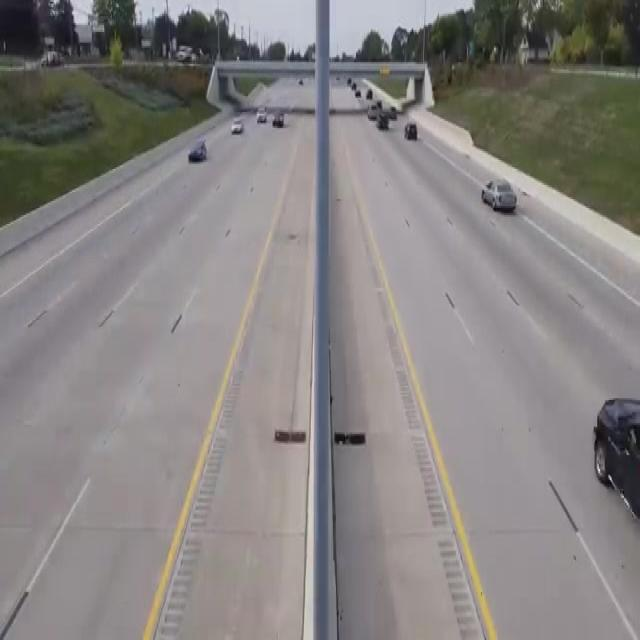car: (478, 173, 532, 225), (403, 122, 430, 155), (188, 143, 223, 168), (228, 114, 250, 140), (257, 104, 272, 130), (276, 103, 287, 137), (364, 79, 377, 102), (377, 114, 389, 134), (367, 104, 382, 116), (388, 104, 399, 120)
